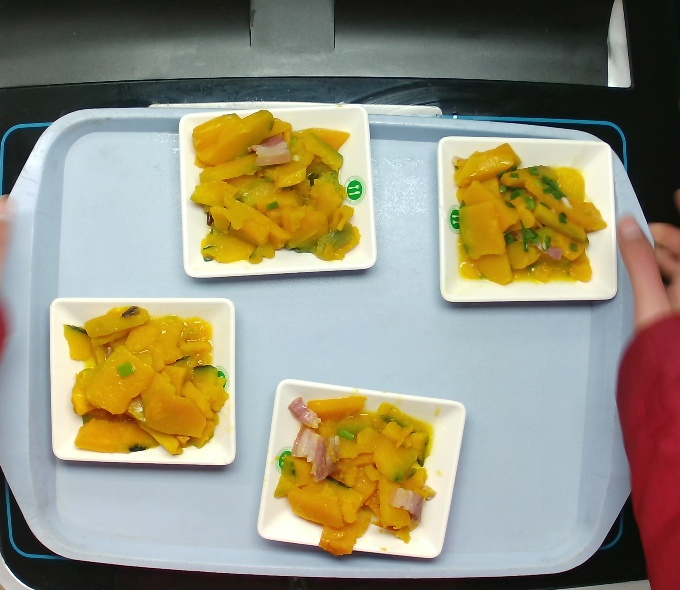wcq-NanGuaChaoLaRou: (268, 391, 440, 561), (186, 106, 364, 270), (58, 302, 230, 460), (448, 141, 613, 291)
